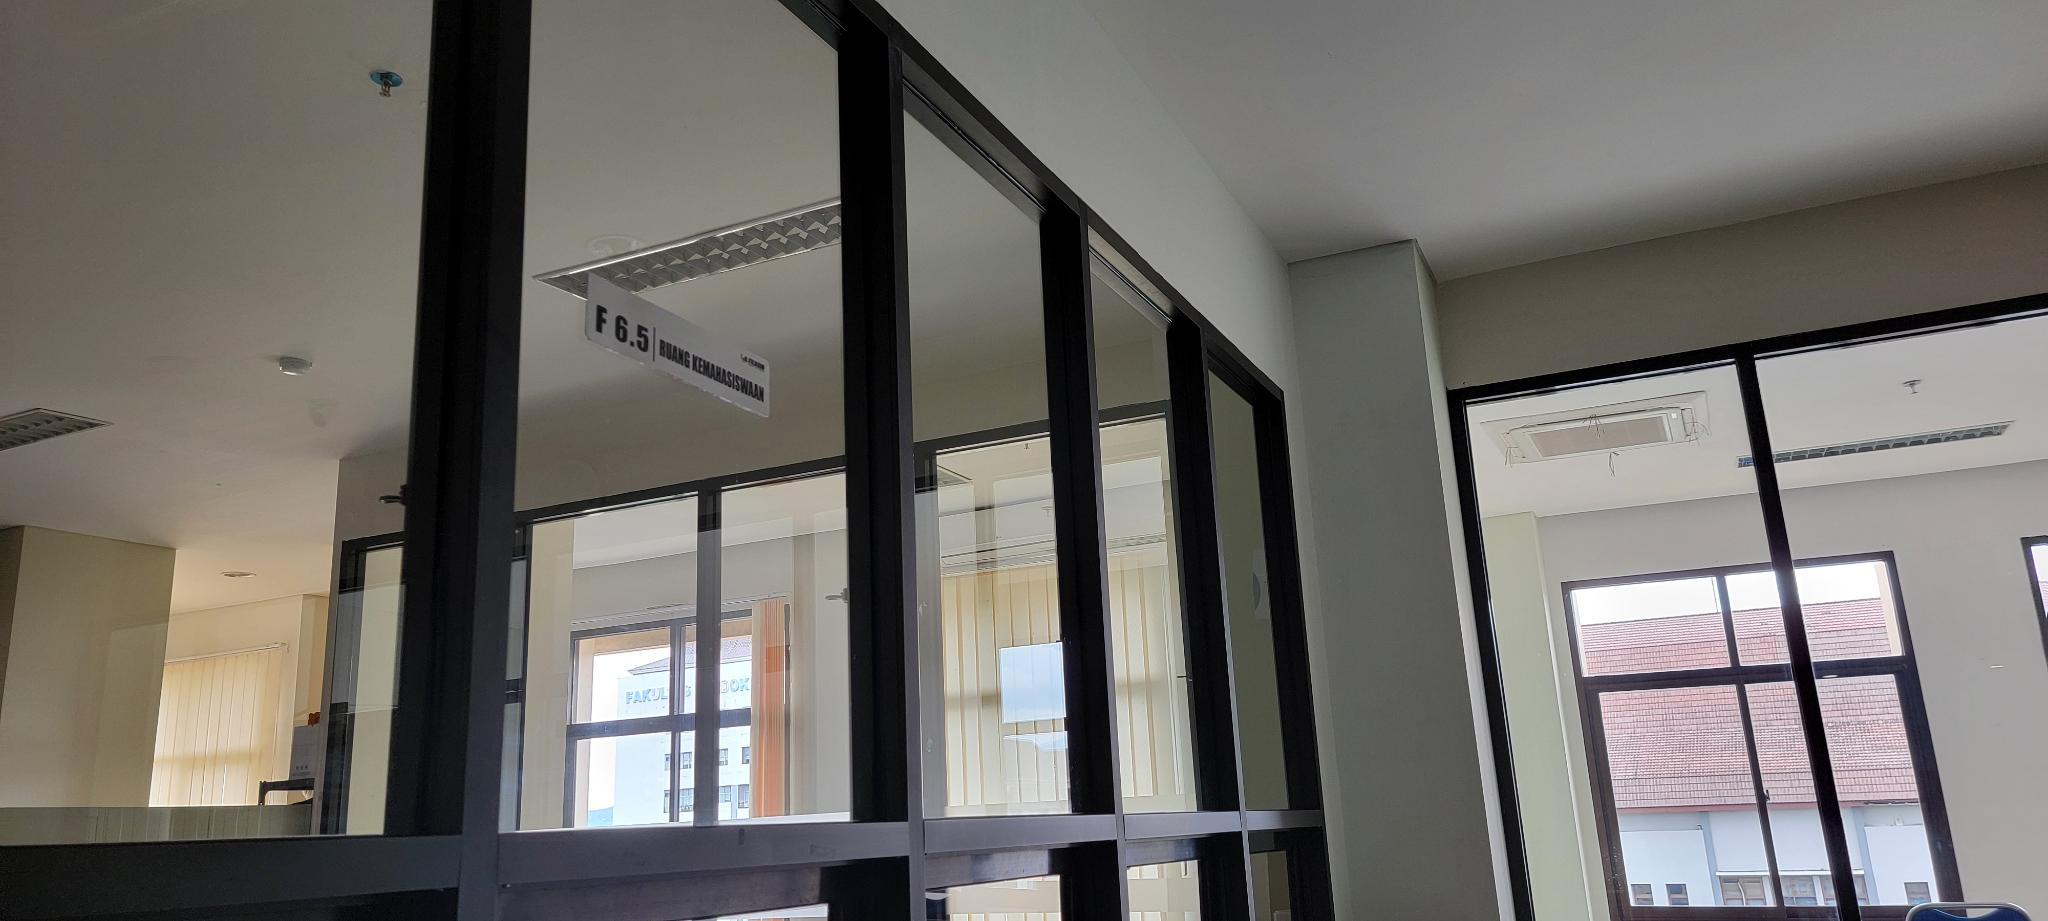plate: (584, 272, 771, 418)
